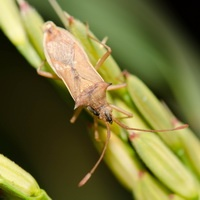insect: (43, 21, 131, 185)
